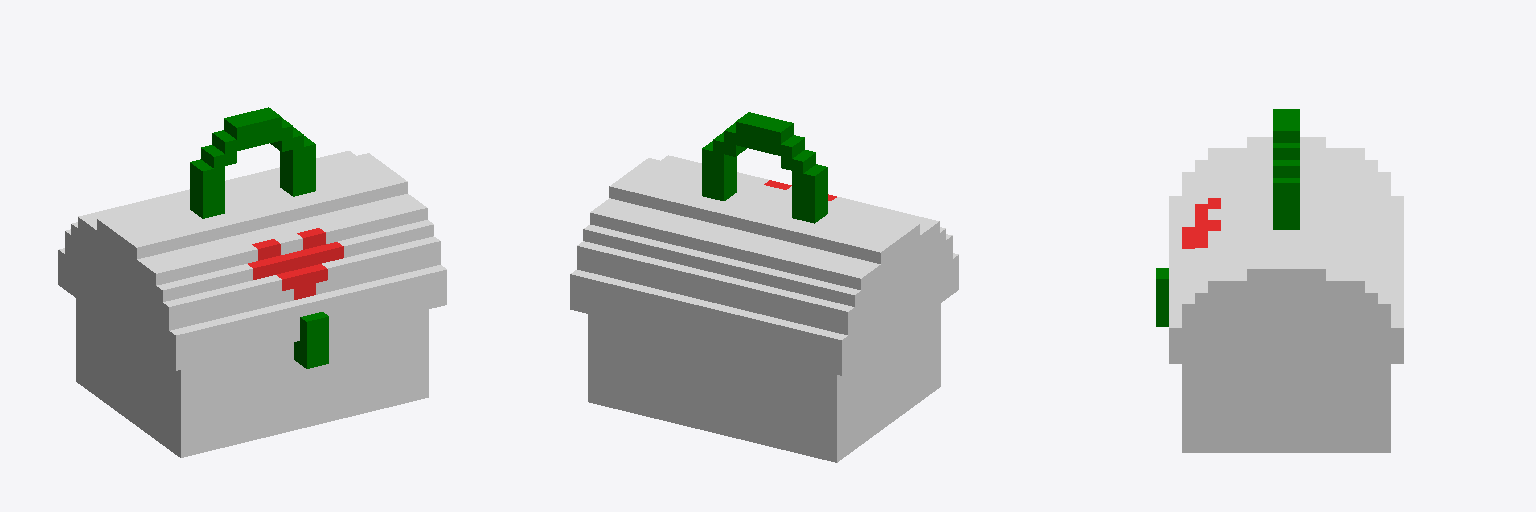
The picture shows the model from 3 angles: view 1: azimuth 30°, elevation 25°; view 2: azimuth 150°, elevation 25°; view 3: azimuth 270°, elevation 25°; orthographic projection.
Parts seen in each view (by area): view 1: object 1; view 2: object 1; view 3: object 1.
Boxes of the visible parts, <box> form: object 1: <box>58,107,446,457</box>; object 1: <box>570,112,958,462</box>; object 1: <box>1156,109,1403,452</box>.
Bounding box in the file's own units: 2.4 × 2.3 × 1.9.
Materials: 1 (1 with a texture image).